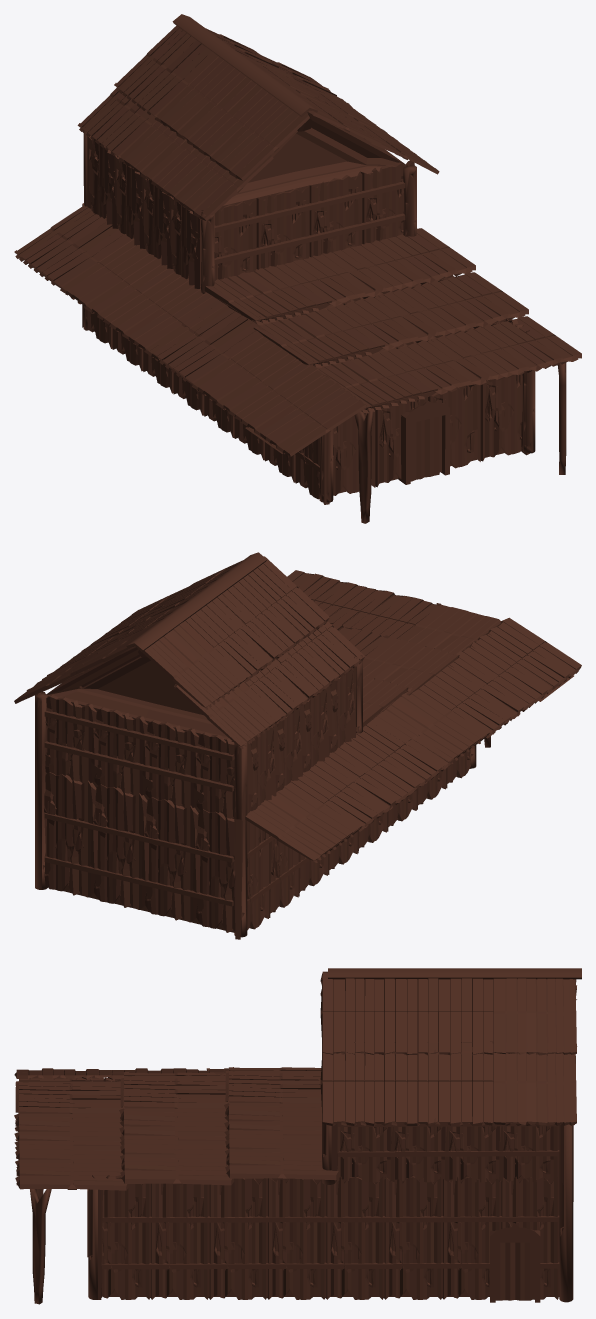
Rendered from 3D_house4.fbx.
3 views of the same model, one above another, from view 1: azimuth 30°, elevation 25°; view 2: azimuth 150°, elevation 25°; view 3: azimuth 270°, elevation 25° (orthographic). The views are drawn at different scales.
Visible parts, largest first — view 1: Plane.021, Plane.020, Plane.018, Plane.026, Plane.029, Plane.024, Plane.016, Plane.017, Plane.019, Plane.030, Plane.025, Plane.032 (+6 smaller); view 2: Plane.020, Plane.018, Plane.027, Plane.021, Plane.028, Plane.017, Plane.024, Plane.016, Plane.025, Plane.019, Plane.032, Cylinder.003 (+2 smaller); view 3: Plane.022, Plane.019, Plane.021, Plane.023, Plane.025, Plane.016, Plane.031, Plane.032, Cylinder.003, Cube, Plane.020, Cylinder.004 (+2 smaller).
Boxes of the visible parts, x1,y1,x2,y2 form: Plane.021: (200, 228, 581, 413); Plane.020: (14, 205, 365, 456); Plane.018: (77, 25, 309, 220); Plane.026: (201, 160, 414, 280); Plane.029: (333, 374, 522, 495); Plane.024: (87, 135, 201, 288); Plane.016: (93, 112, 504, 493); Plane.017: (82, 203, 329, 504); Plane.019: (206, 28, 439, 174); Plane.030: (398, 401, 449, 484); Plane.025: (97, 159, 405, 472); Plane.032: (172, 14, 317, 116); Plane.020: (245, 617, 581, 862); Plane.018: (142, 556, 365, 748); Plane.027: (44, 772, 235, 932); Plane.021: (287, 570, 501, 731); Plane.028: (38, 692, 235, 819); Plane.017: (235, 749, 475, 939); Plane.024: (247, 666, 356, 813); Plane.016: (46, 647, 573, 932); Plane.025: (44, 682, 355, 906); Plane.019: (14, 560, 242, 703); Plane.032: (126, 552, 266, 651); Cylinder.003: (35, 692, 47, 889); Plane.022: (92, 1175, 558, 1299); Plane.019: (320, 972, 577, 1126); Plane.021: (14, 1067, 339, 1190); Plane.023: (336, 1126, 557, 1182); Plane.025: (102, 1122, 559, 1269); Plane.016: (32, 1075, 559, 1296); Plane.031: (490, 1224, 540, 1302); Plane.032: (328, 968, 581, 979); Cylinder.003: (559, 1124, 573, 1302); Cube: (30, 1189, 51, 1304); Plane.020: (14, 1068, 228, 1079); Cylinder.004: (88, 1189, 102, 1299).
Bounding box in the file's own units: 1093 × 967 × 1759.
